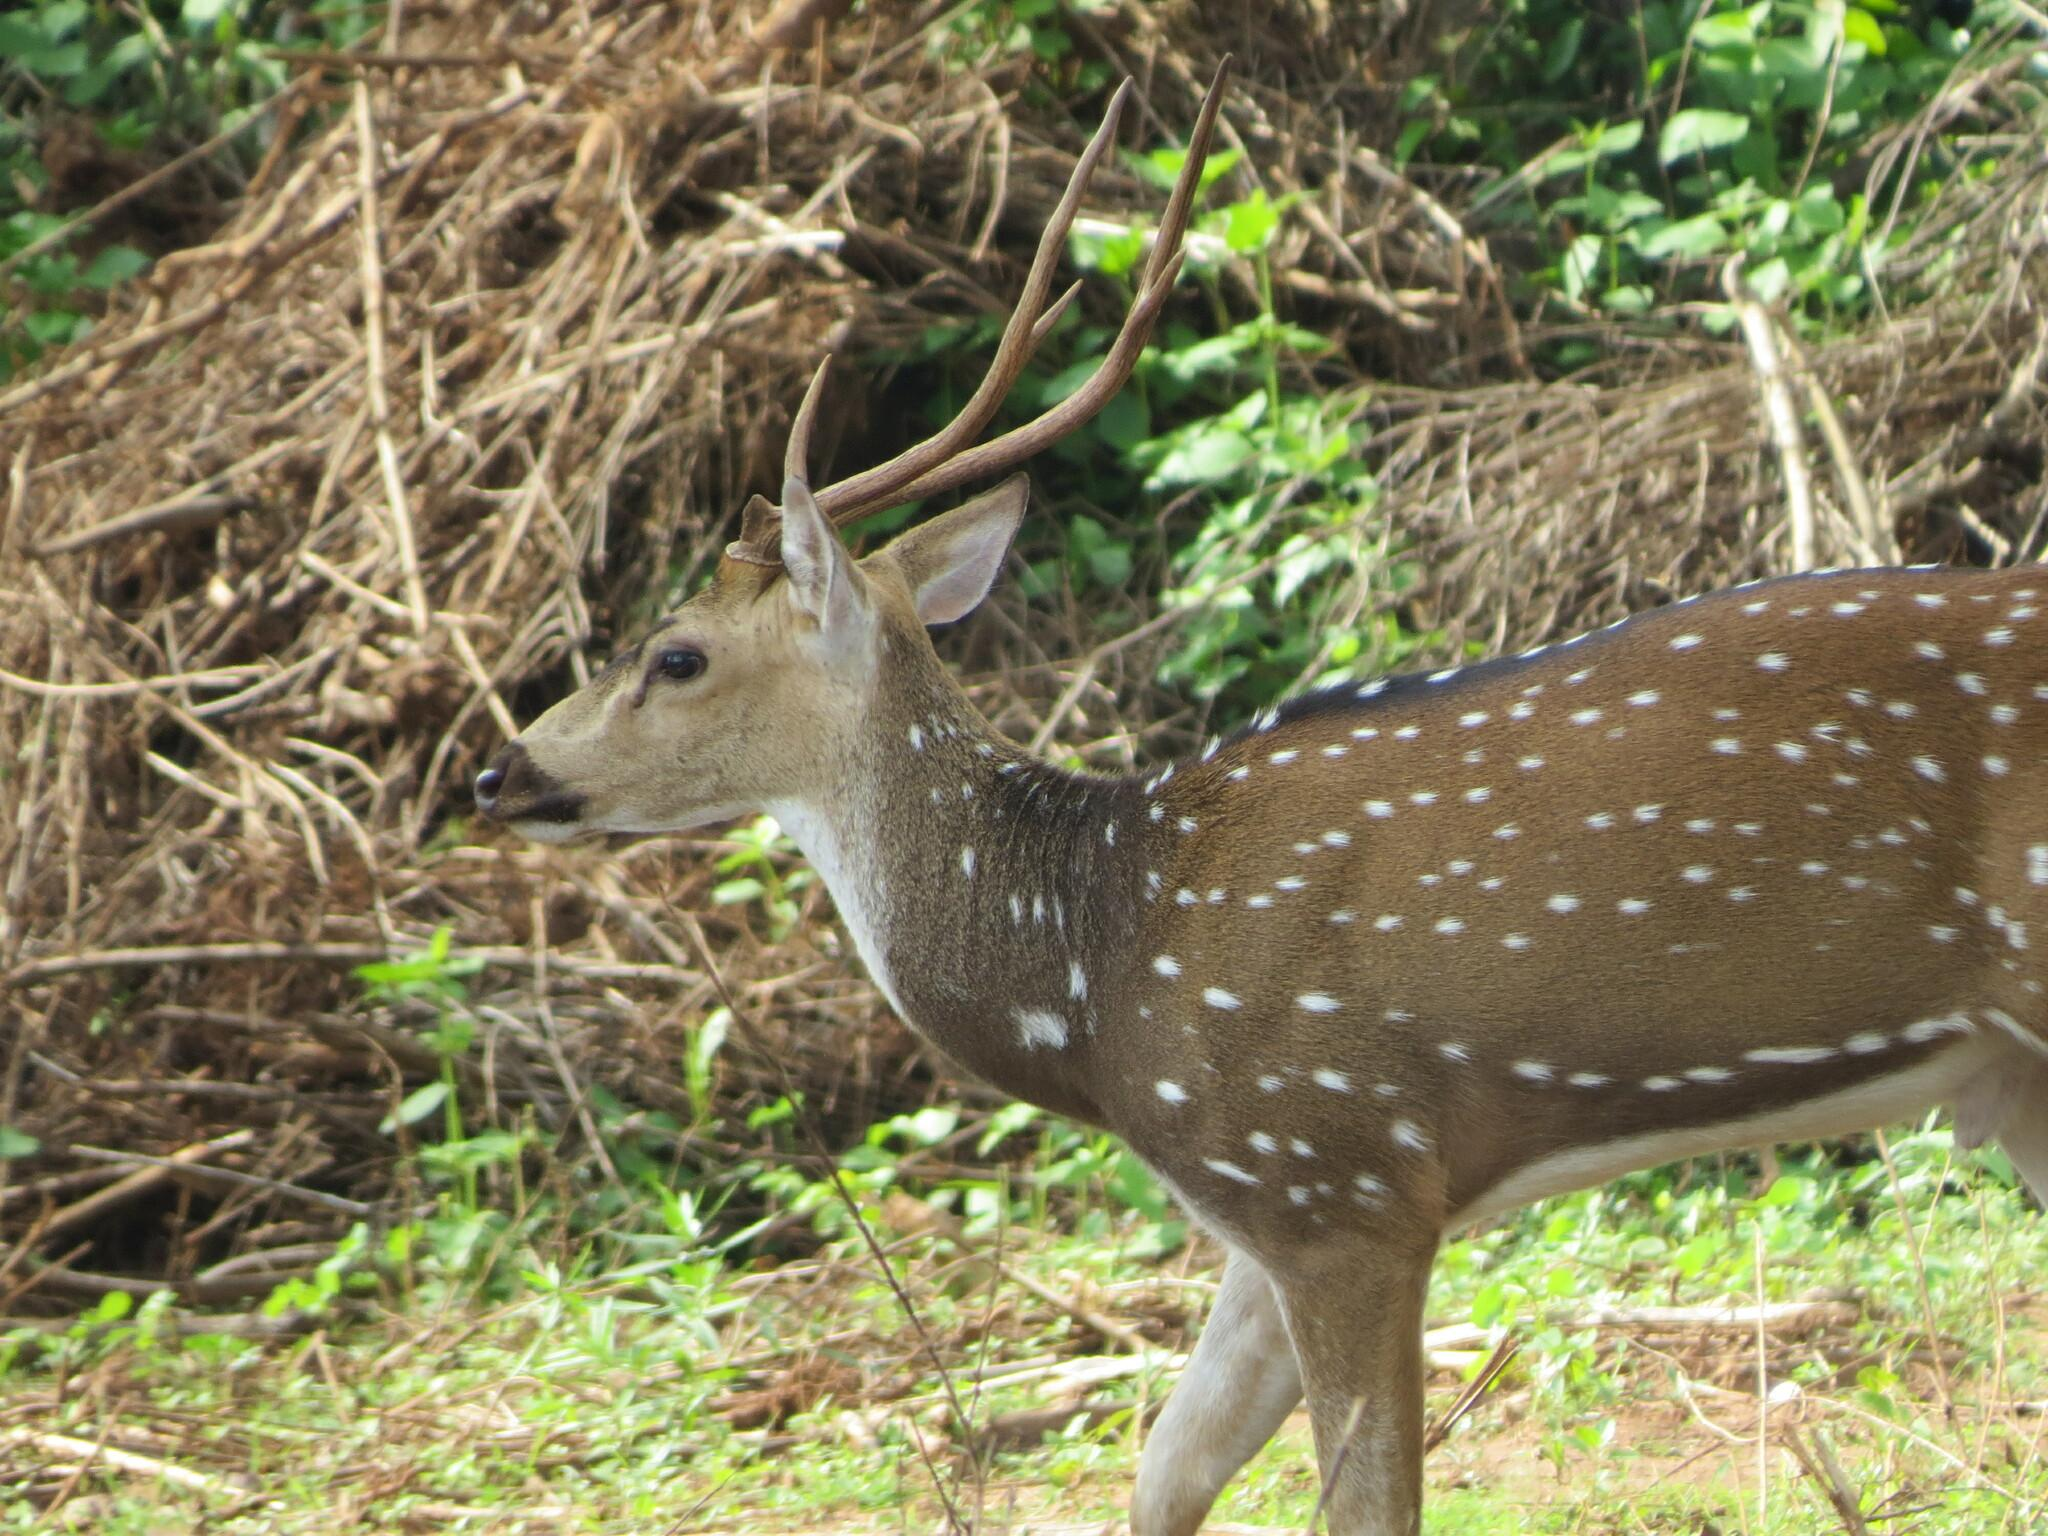Deer: (474, 68, 2046, 1534)
